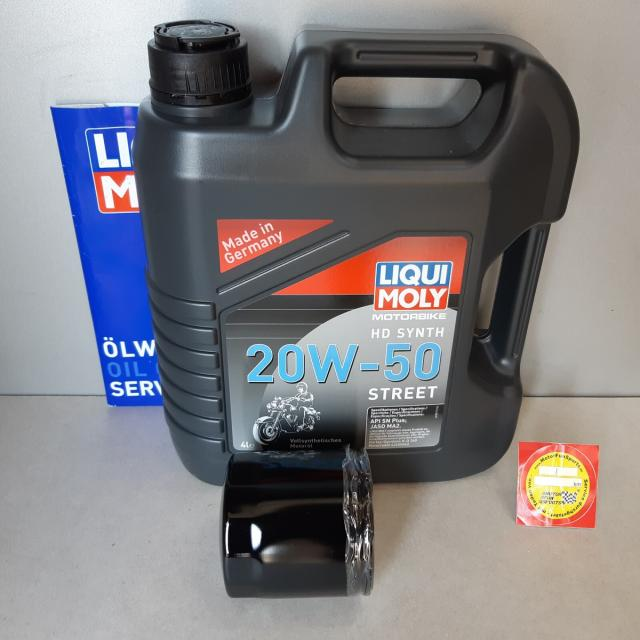motor_oil: (136, 22, 583, 444)
oil_filter: (221, 449, 375, 598)
